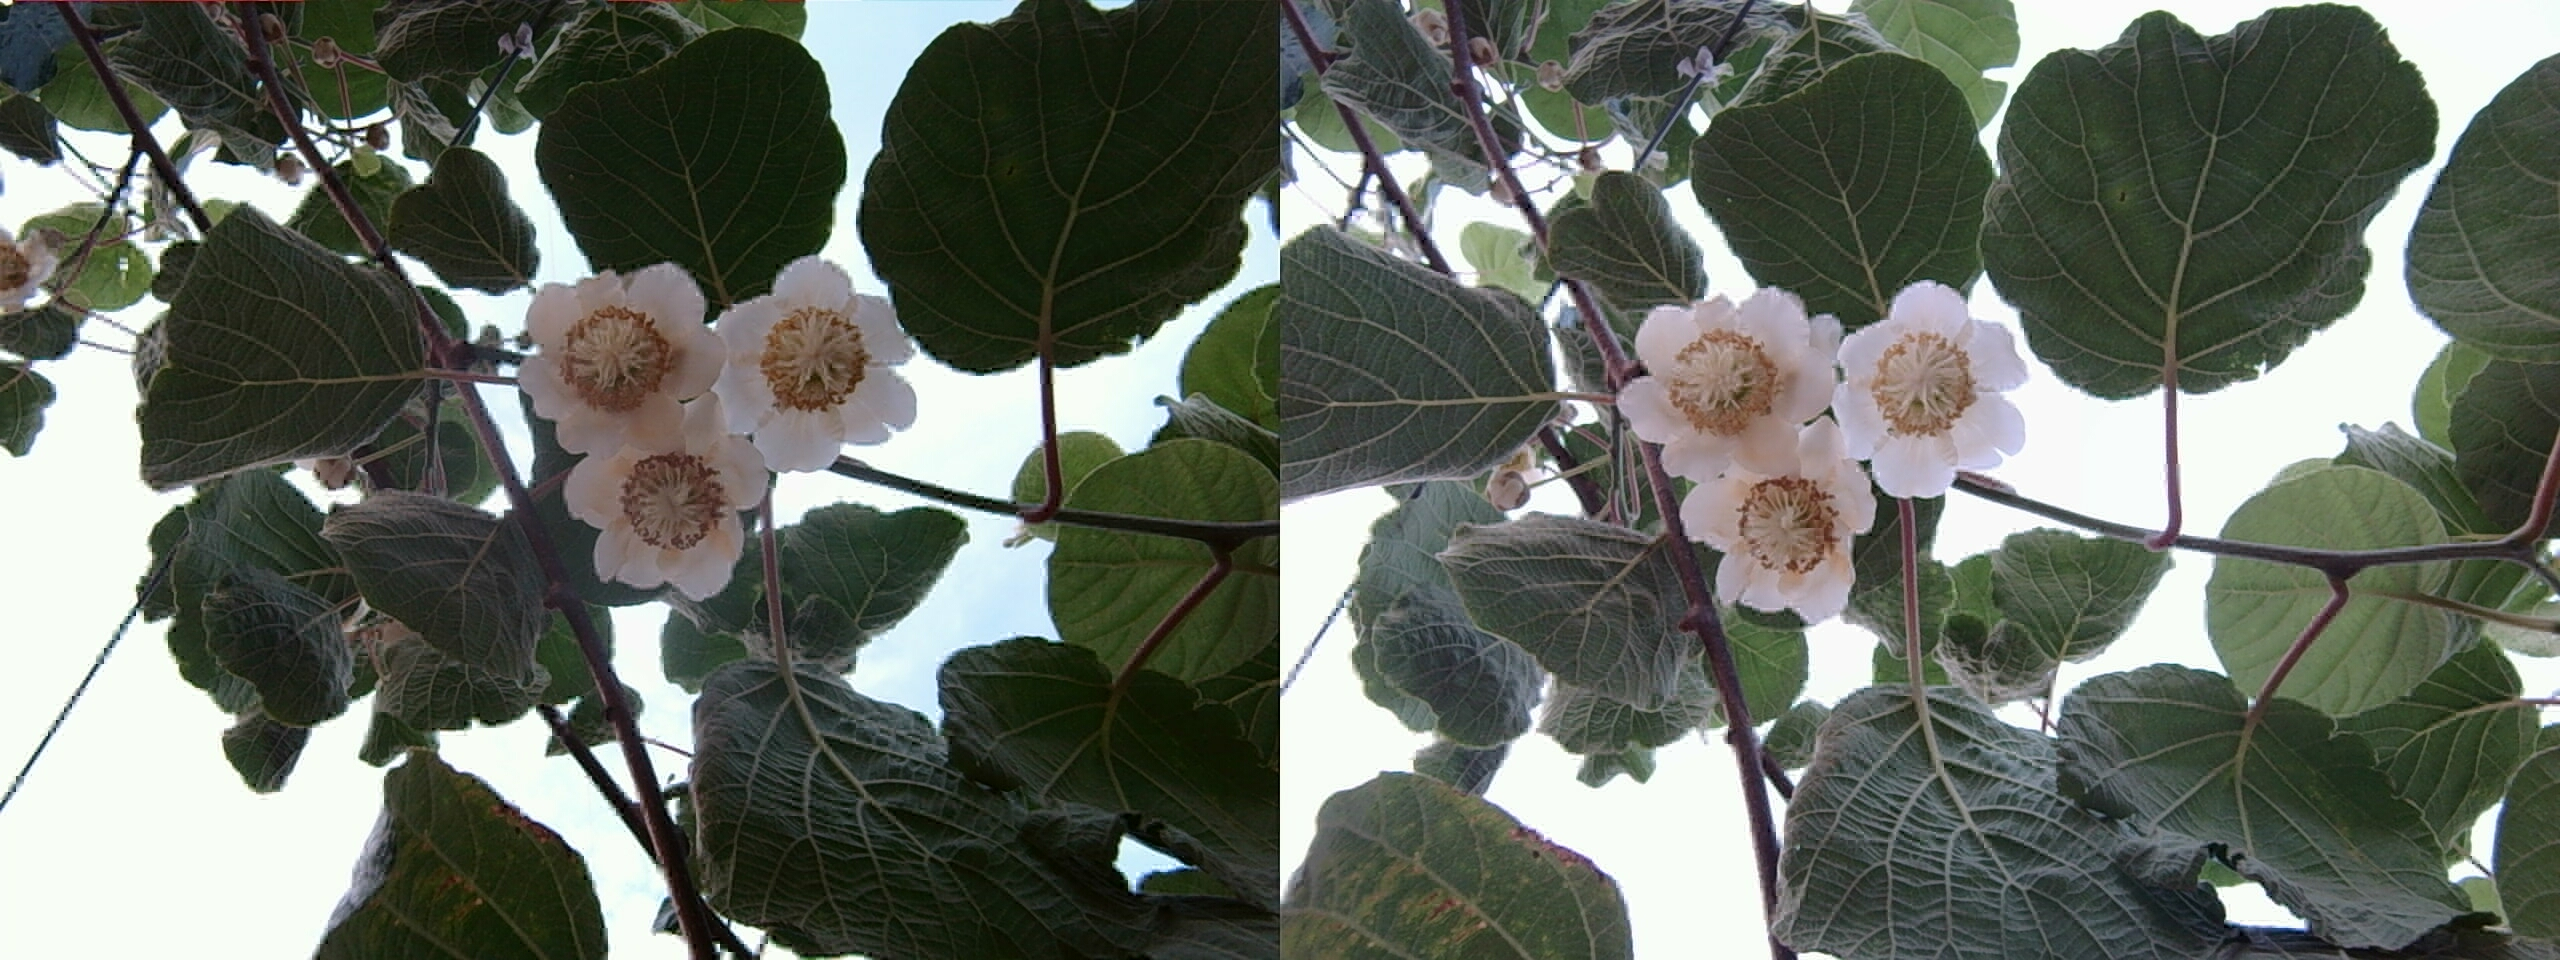flower: (1822, 268, 2029, 500), (547, 398, 777, 594), (705, 256, 921, 465), (1616, 281, 1838, 472), (516, 256, 723, 452), (1669, 433, 1886, 619)
